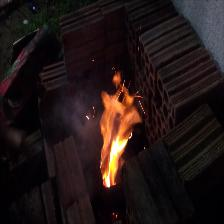fire: (92, 61, 151, 193)
